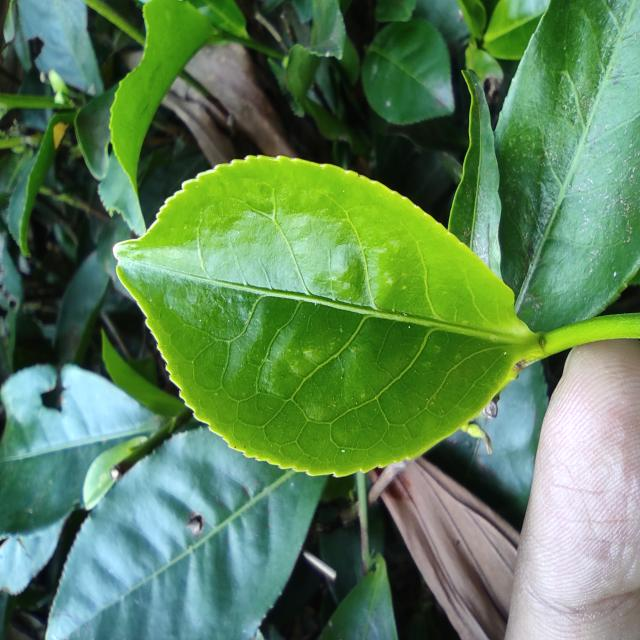Category C 4-7 days: (85, 136, 556, 490)
